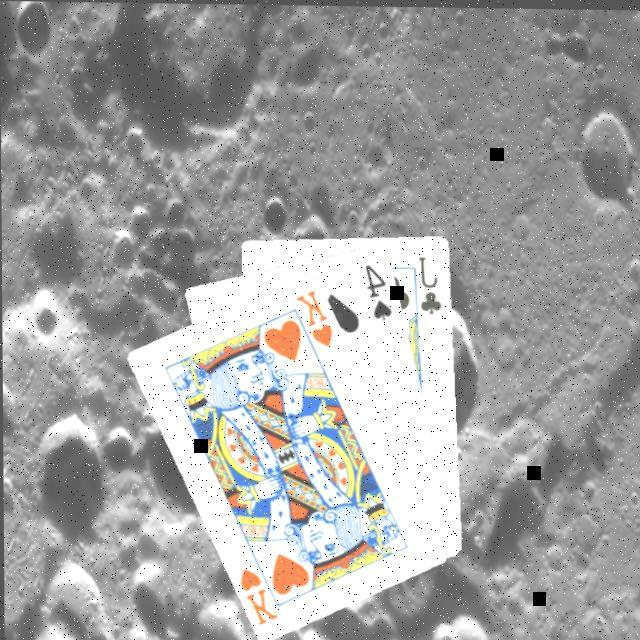4S: (364, 260, 396, 322)
JC: (416, 252, 446, 316)
KH: (294, 285, 338, 350), (238, 564, 282, 628)
